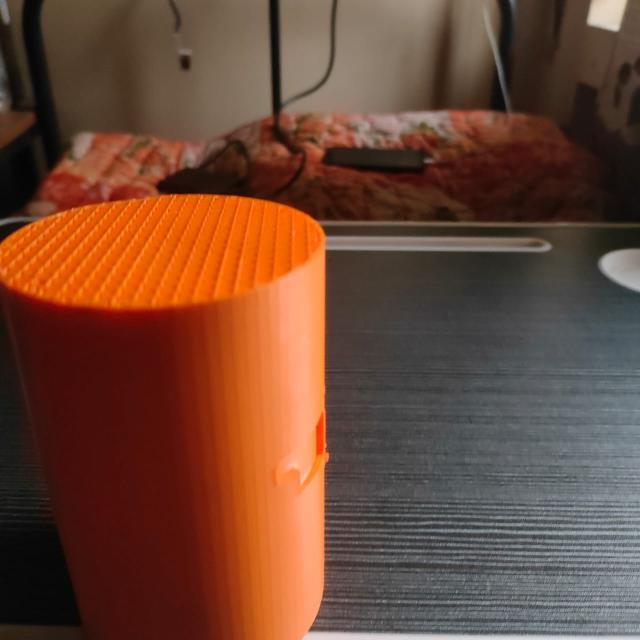Cylinder: (1, 192, 329, 638)
